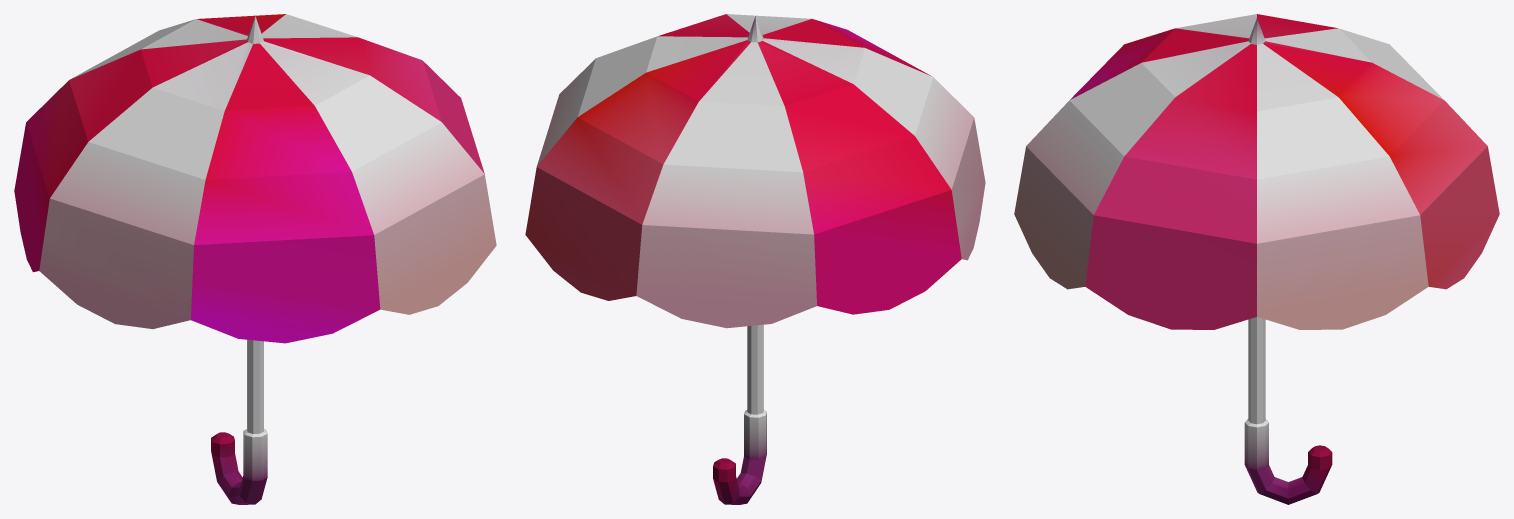
File: vc_umbrella002.fbx
The picture shows the model from 3 angles, left to right: view 1: azimuth 30°, elevation 25°; view 2: azimuth 150°, elevation 25°; view 3: azimuth 270°, elevation 25°; orthographic projection. The views are drawn at different scales.
Parts seen in each view (by area): view 1: Sphere; view 2: Sphere; view 3: Sphere.
Boxes of the visible parts, x1,y1,x2,y2 form: Sphere: (14,14,496,504); Sphere: (525,14,985,504); Sphere: (1014,14,1499,504).
Bounding box in the file's own units: 200 × 221 × 200.
